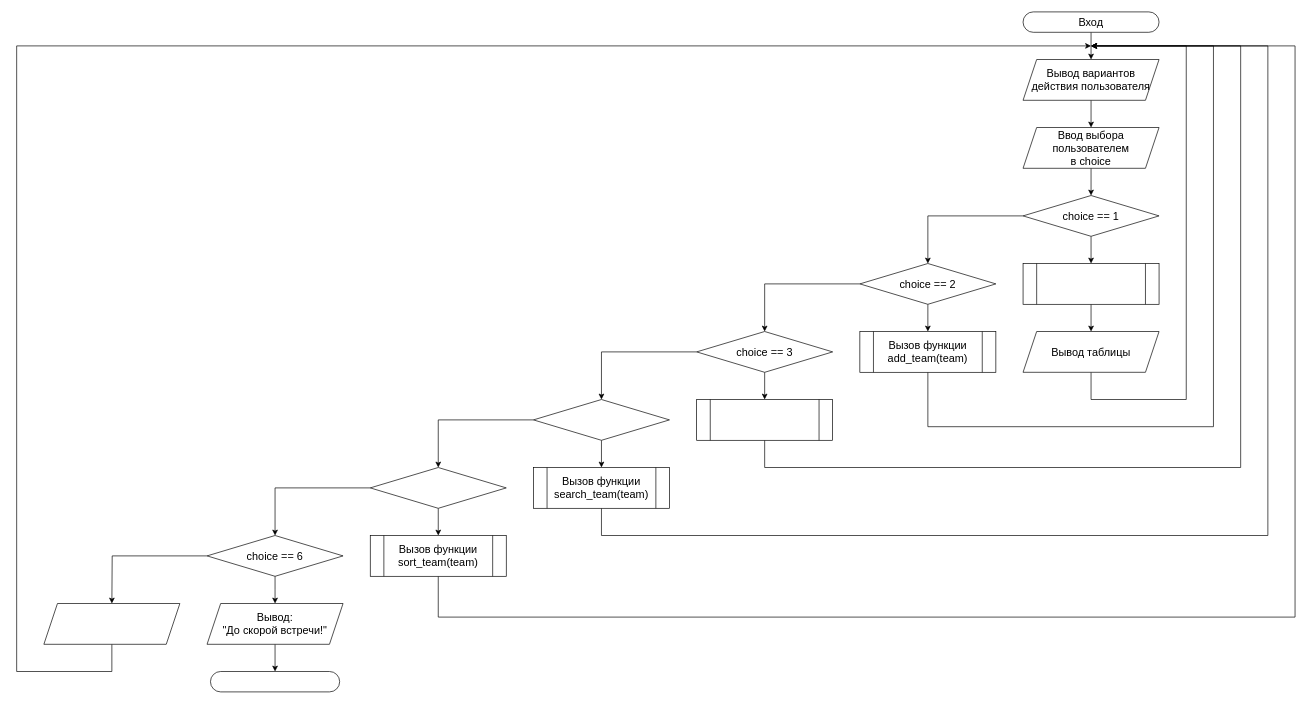
This 1312x704 diagram has some shape labels left out. The shapes that lost their labels are listed below. From the top down, each one's centre as x and y in pixels, then its label:
the point at 1090,283: Вызов функции print_team(team)
the point at 601,419: choice == 4
the point at 764,419: Вызов функции del_team(team)
the point at 438,487: choice == 5
the point at 111,623: Вывод: "Неверный выбор, попробуйте снова..."
the point at 275,681: Выход
